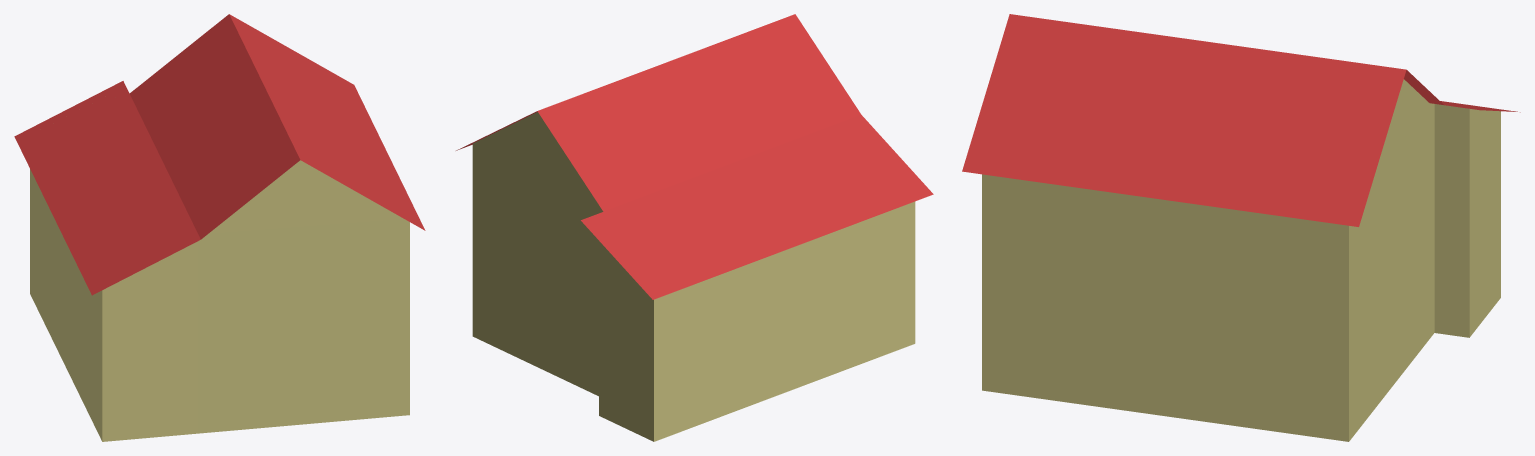
The picture shows the model from 3 angles, left to right: view 1: azimuth 30°, elevation 25°; view 2: azimuth 150°, elevation 25°; view 3: azimuth 270°, elevation 25°; orthographic projection. The views are drawn at different scales.
Size of the model in its own units: 16.31 by 17.72 by 11.2.
